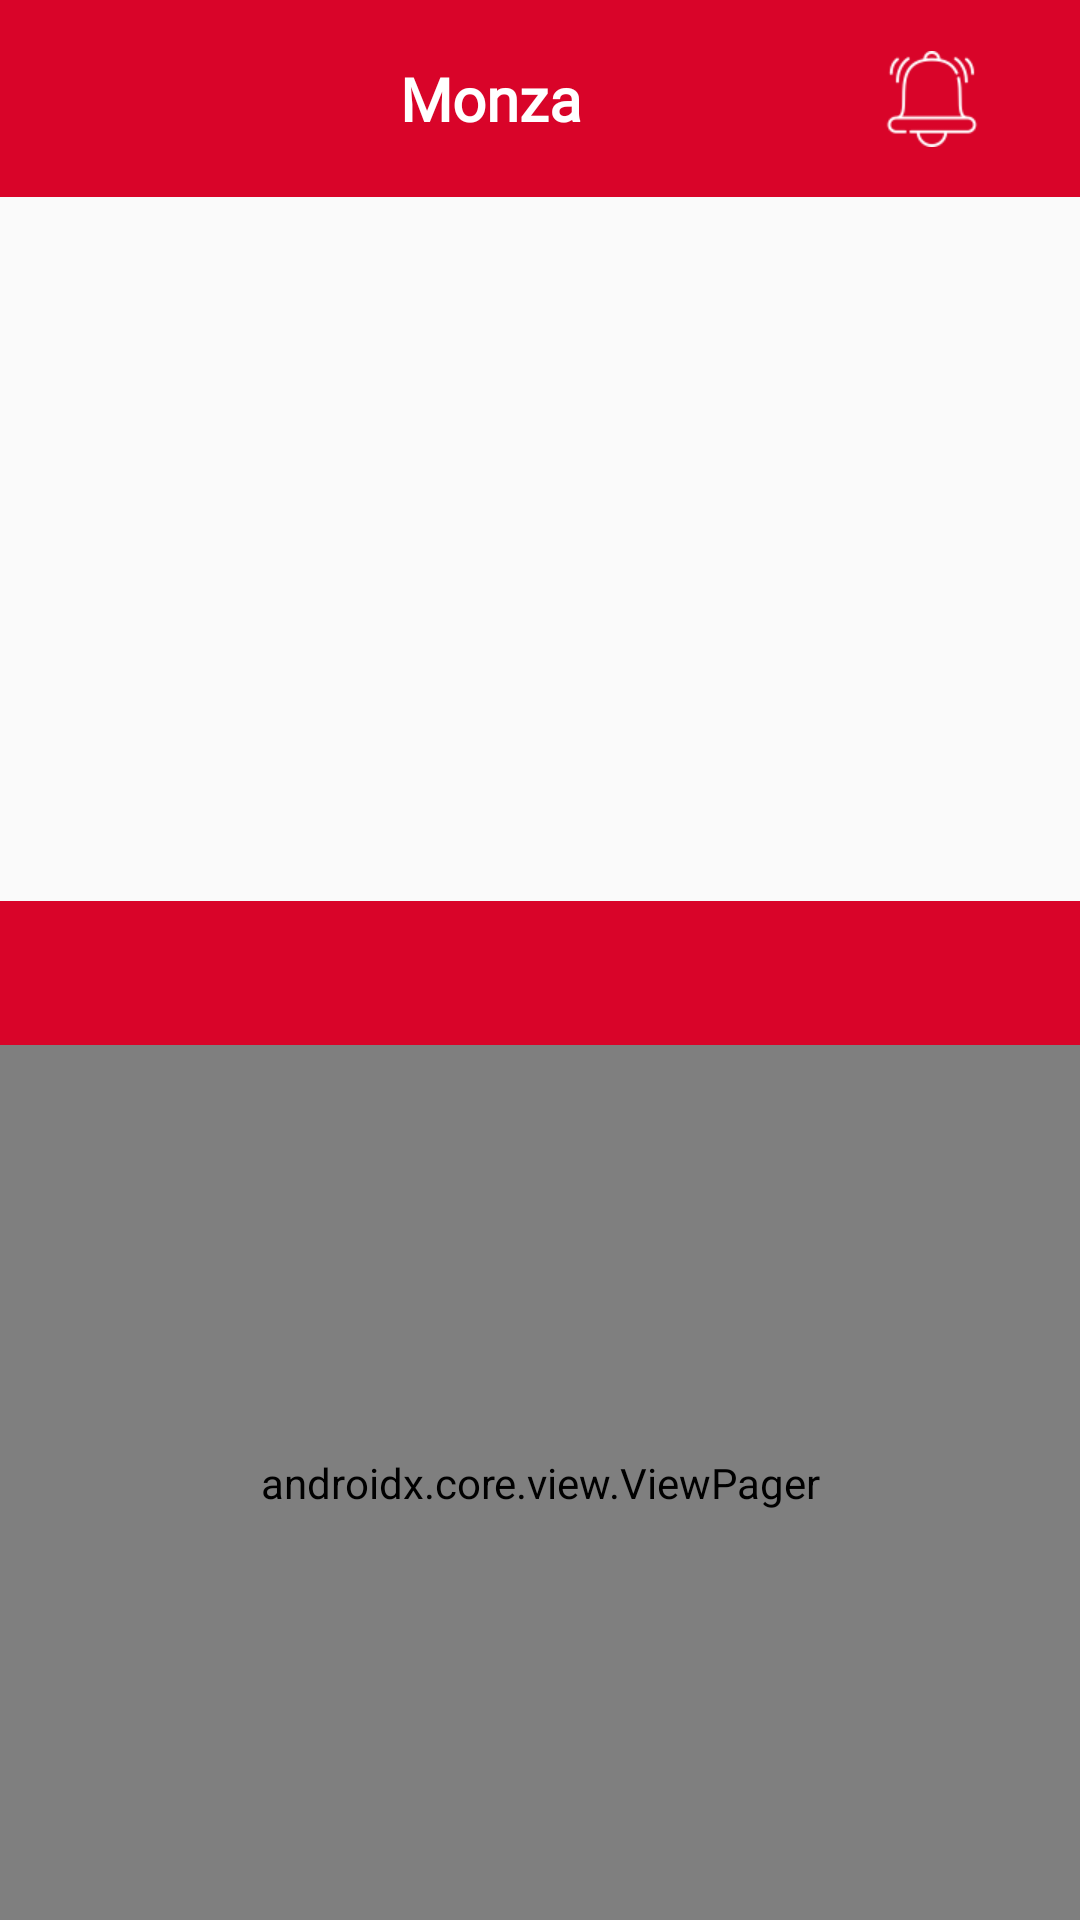

Icons on this 1080w x 1920h Android screen, each with the point to tap as (x=x, y=y):
bell: (x=932, y=99)
